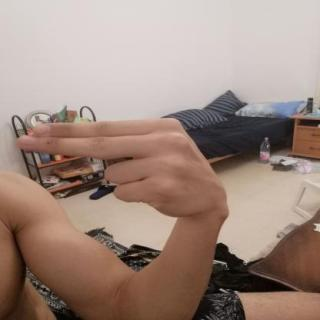AYN: (7, 110, 235, 225)
